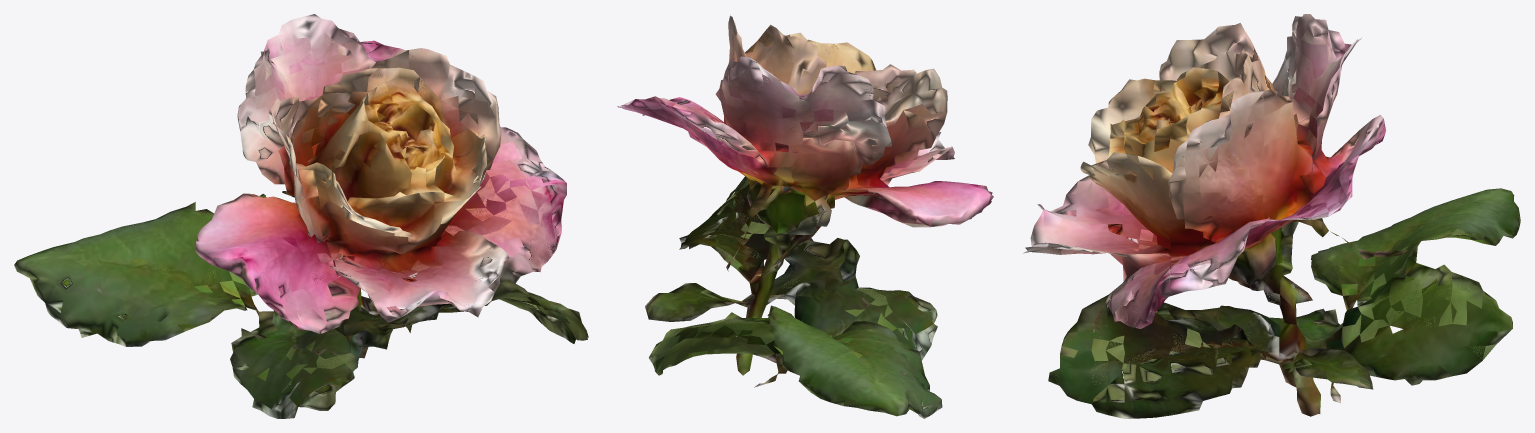
3 renders of one model, left to right at view 1: azimuth 30°, elevation 25°; view 2: azimuth 150°, elevation 25°; view 3: azimuth 270°, elevation 25°, orthographic. The views are drawn at different scales.
Visible parts, largest first — view 1: c348ab02; view 2: c348ab02; view 3: c348ab02.
Boxes of the visible parts, box(x1,y1,x2,y2) form: c348ab02: box(14, 14, 588, 418); c348ab02: box(617, 14, 993, 418); c348ab02: box(1023, 14, 1520, 418).
Size of the model in its own units: 0.0793 by 0.0642 by 0.0807.
Materials: 1 (1 with a texture image).
